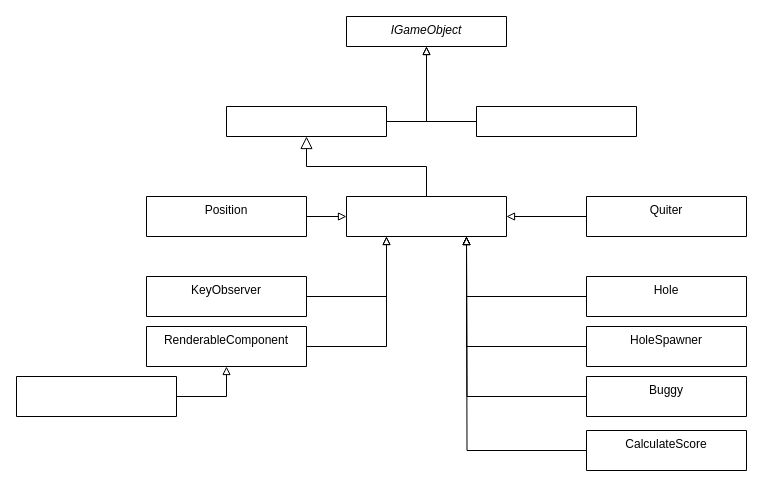
This 763x487 diagram has some shape labels left out. The centre of each missing label's shape, as x and y in pixels:
BaseGameObject: the point at 306,121
Component: the point at 426,216
Game Object: the point at 556,121
RenderableStringComponent: the point at 96,396
